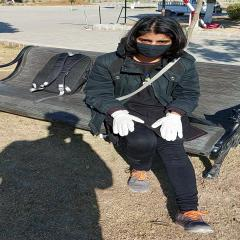gloved: (110, 111, 144, 136), (154, 112, 183, 141)
